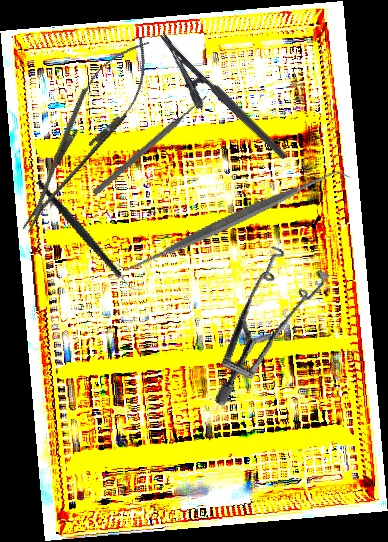Chopper: (34, 159, 145, 313)
Needle Holder: (2, 25, 167, 245), (142, 31, 288, 177)
Pusher: (91, 91, 211, 198)
Spatula Surgical: (115, 101, 351, 340)
Speculum: (164, 229, 361, 408)
